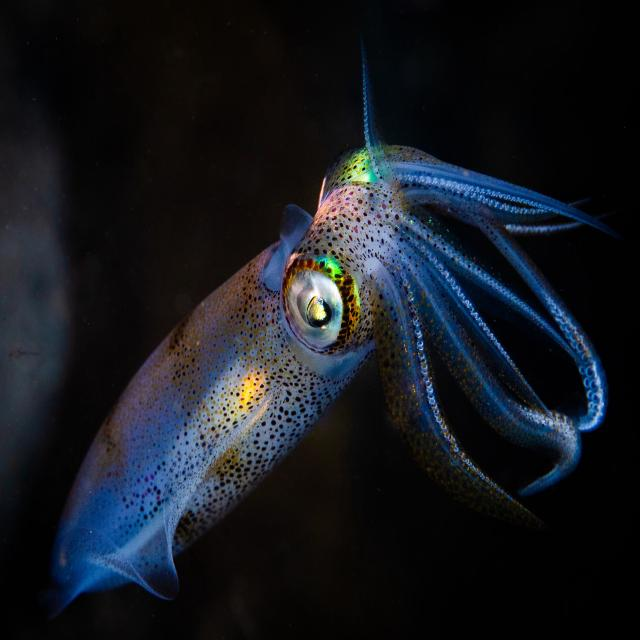SQUID: (30, 128, 591, 640)
